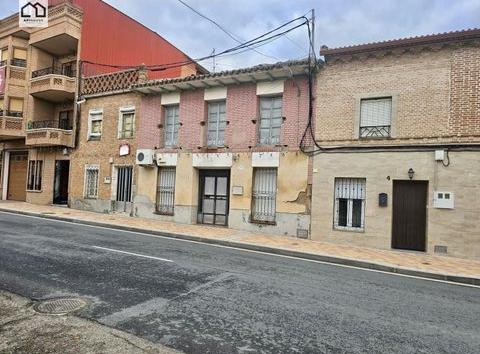casa: (315, 55, 475, 270), (135, 70, 311, 244), (70, 83, 136, 219)
